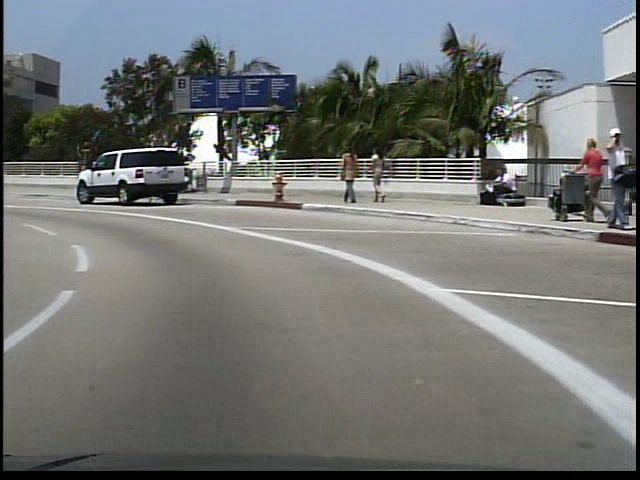person: (572, 132, 602, 227), (337, 140, 358, 208), (364, 146, 387, 205), (480, 166, 511, 208)
